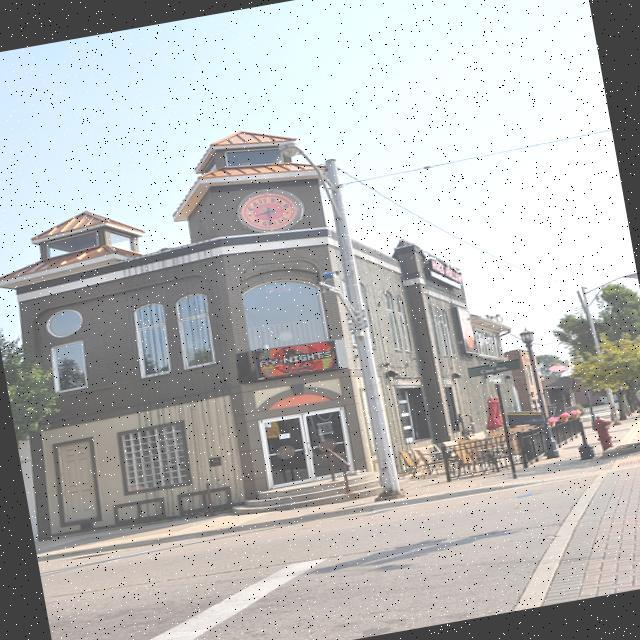fire_hydrant: (586, 410, 620, 458)
